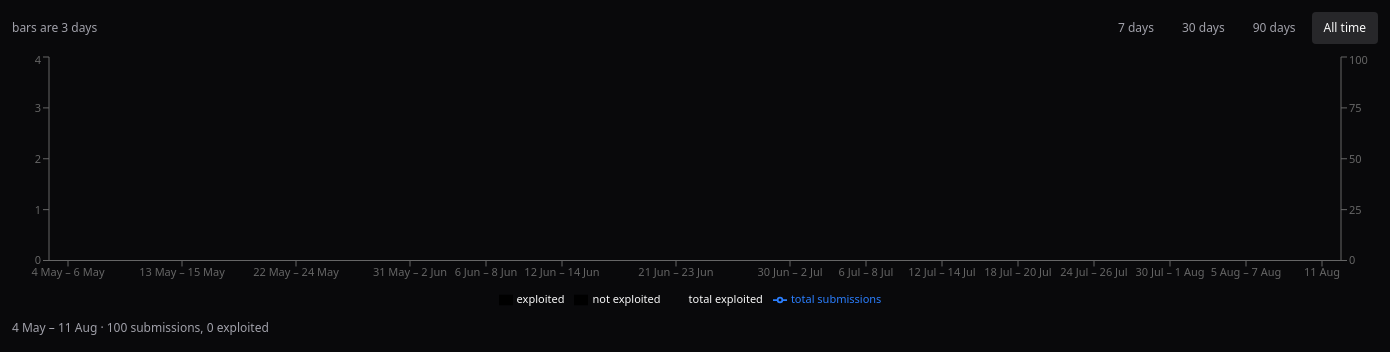
SubmissionsTimelineChart — time range › drops the range note when the reader goes back to the whole period
Step 1. Click the radio button labelled "7 days" → (1136, 28), box x1=1106 y1=12 x2=1166 y2=44
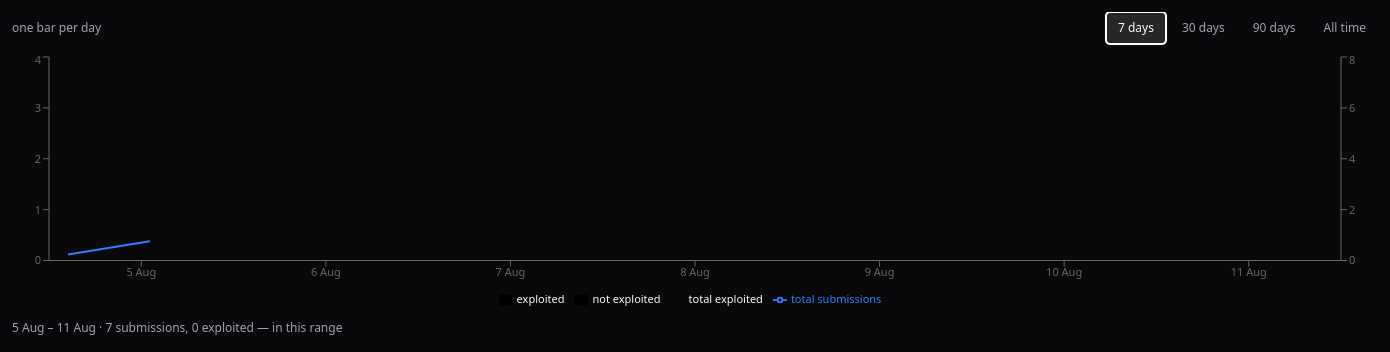
Step 2. Click the radio button labelled "All time" → (1345, 28), box x1=1312 y1=12 x2=1378 y2=44
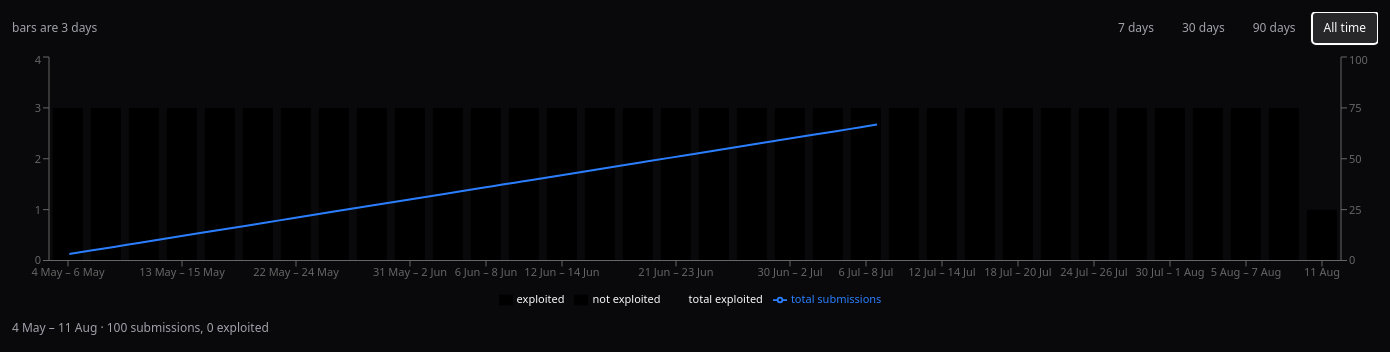
Result: the text "in this range" is gone
